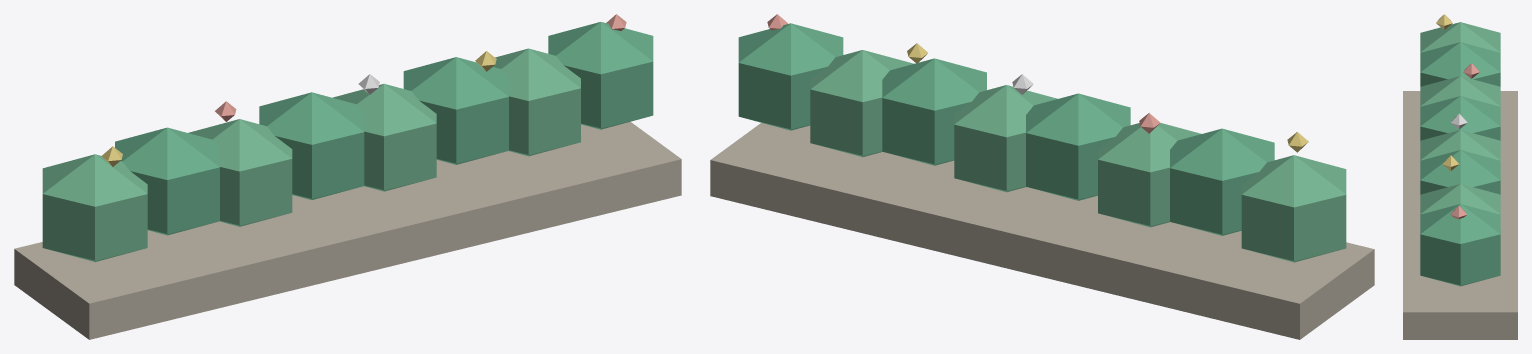
Rendered from hedge_row.glb.
The picture shows the model from 3 angles, left to right: view 1: azimuth 30°, elevation 25°; view 2: azimuth 150°, elevation 25°; view 3: azimuth 270°, elevation 25°; orthographic projection. The views are drawn at different scales.
Size of the model in its own units: 4.23 by 1.07 by 0.9.
